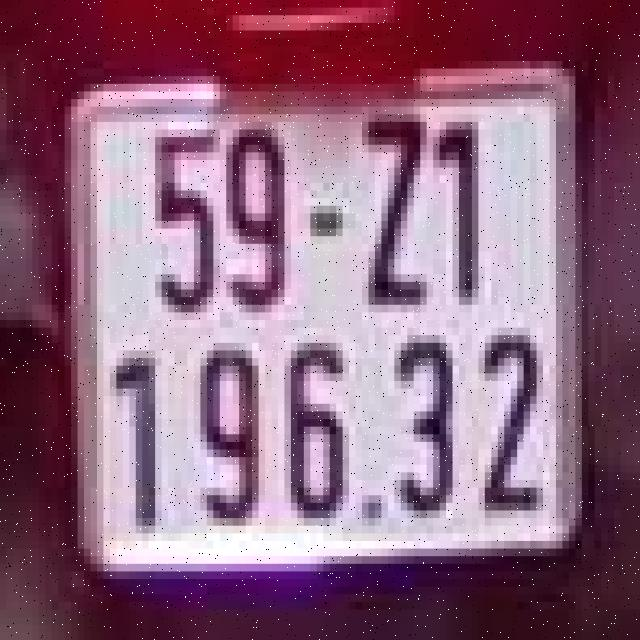1: (104, 346, 174, 544), (436, 126, 488, 301)
2: (472, 324, 556, 522)
3: (381, 320, 459, 526)
5: (148, 122, 220, 320)
6: (275, 332, 365, 530)
9: (190, 343, 274, 533), (220, 122, 297, 320)
Z: (356, 107, 433, 320)
